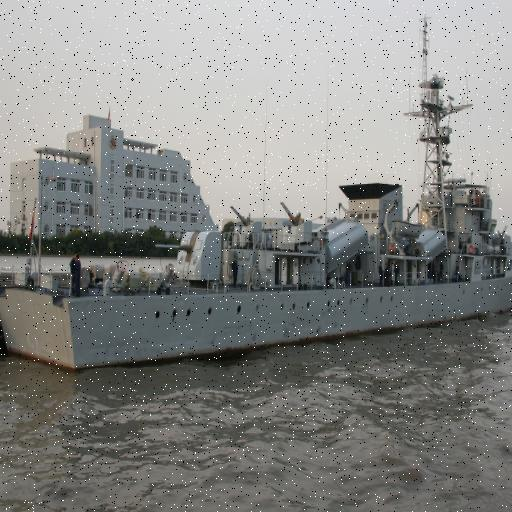Fragata: (1, 1, 512, 377)
